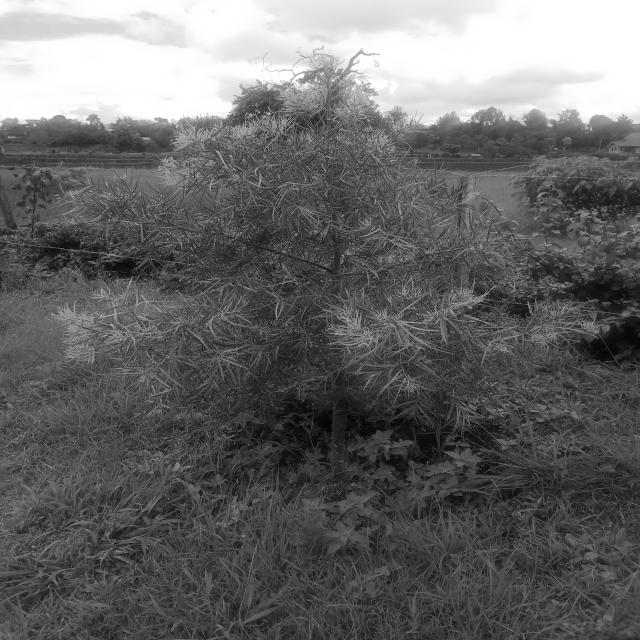Podocarpus falcatus: (57, 74, 605, 489)
